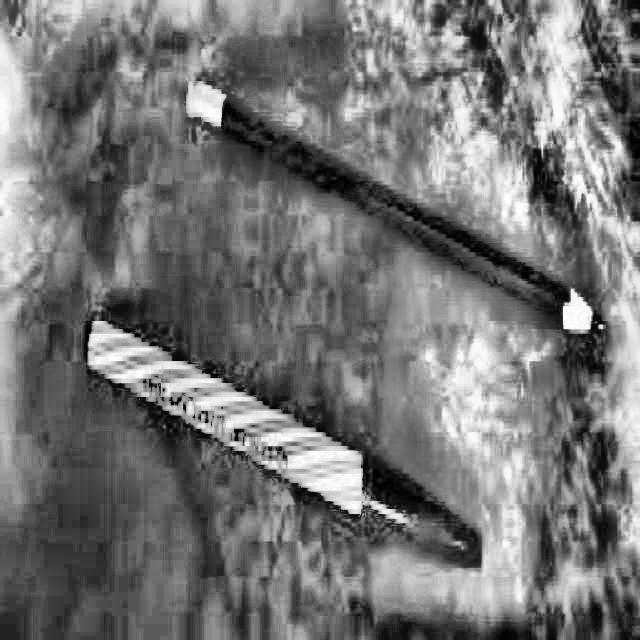Pen: (57, 281, 562, 609)
